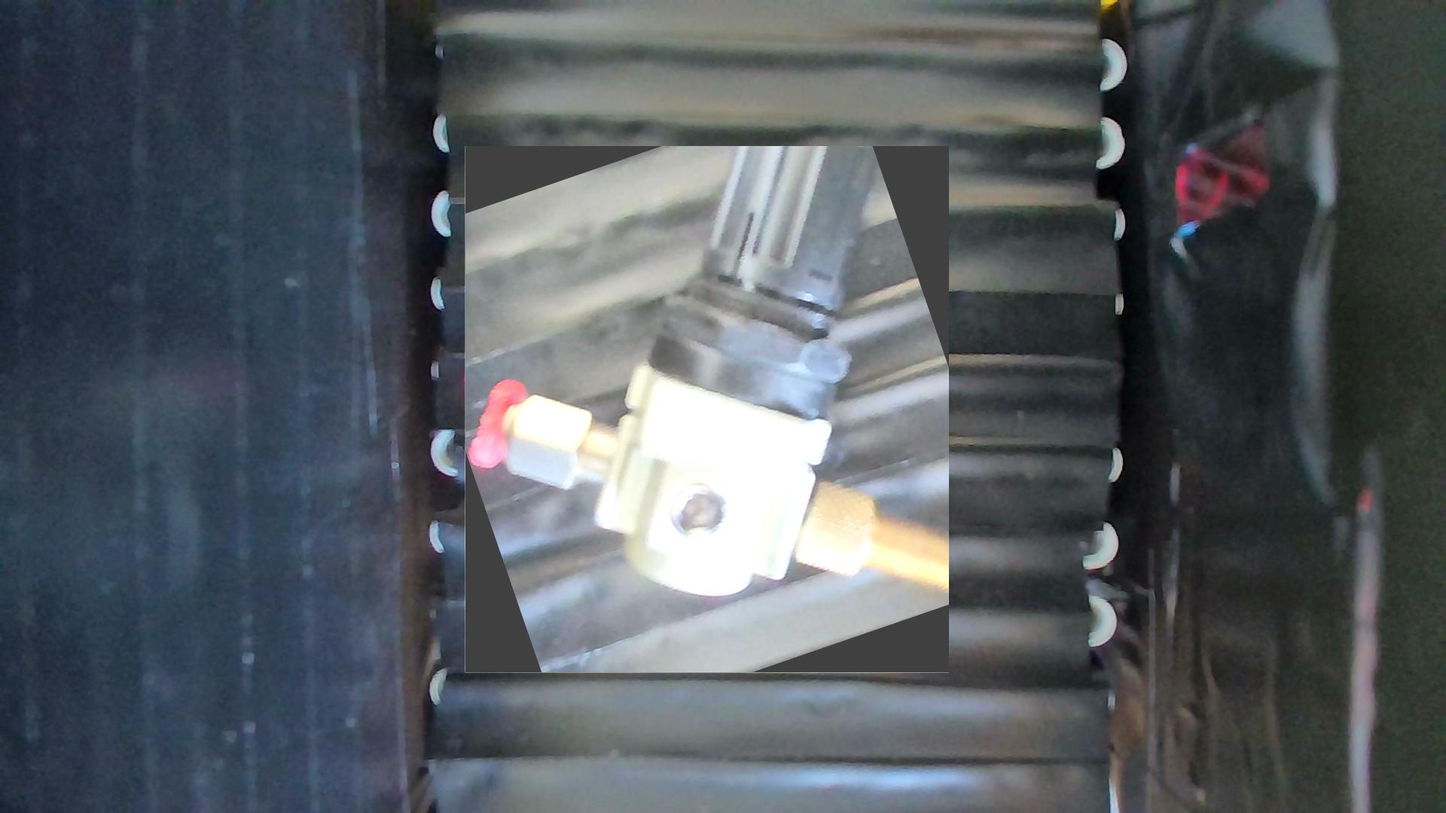regulator: (464, 147, 948, 674)
